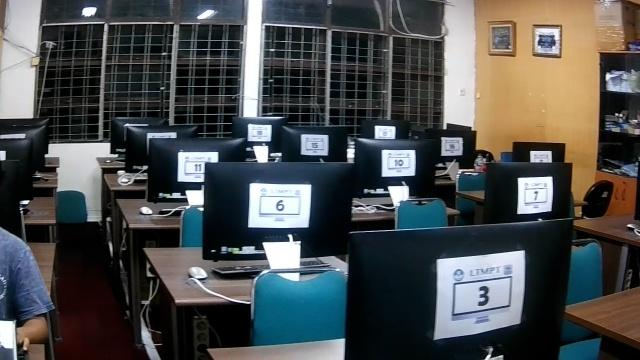AIO PC-Monitor-TV: (344, 217, 573, 359), (201, 161, 356, 281), (147, 136, 246, 203), (352, 136, 438, 205), (483, 161, 573, 225)
